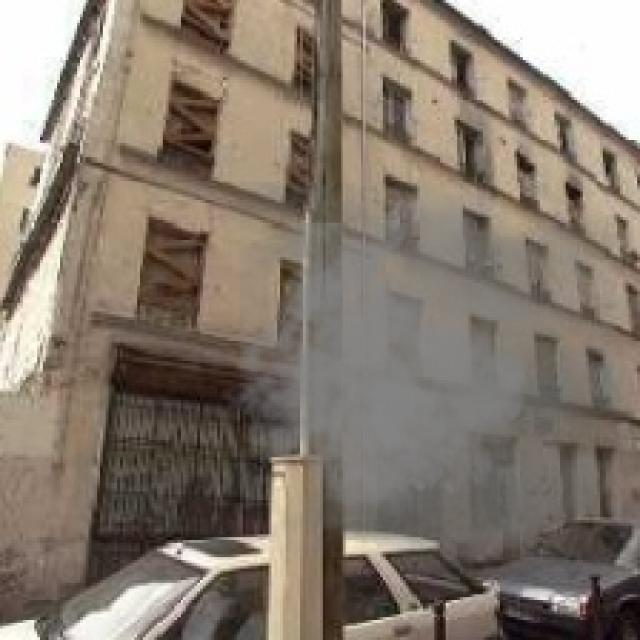Smoke: (226, 180, 634, 569)
